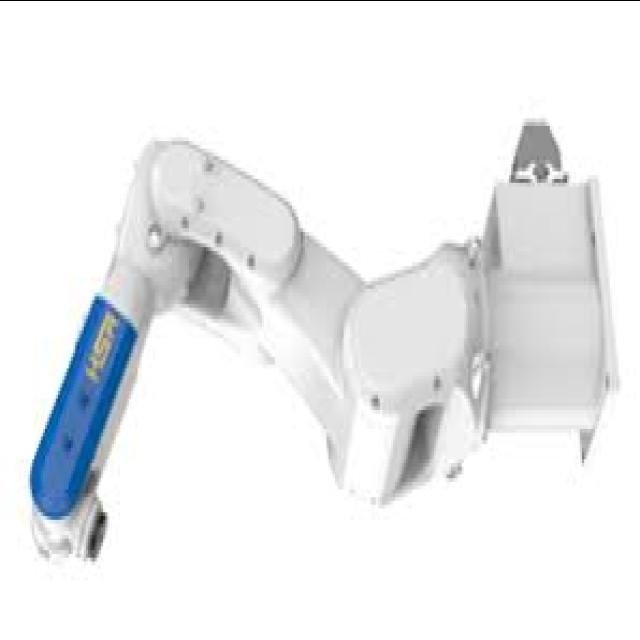Robotic-arm: (15, 99, 612, 582)
